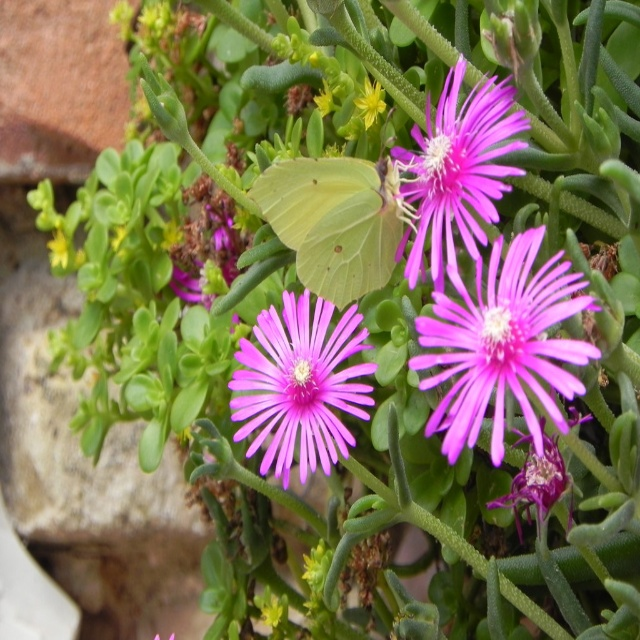Butterfly: (247, 105, 420, 312)
